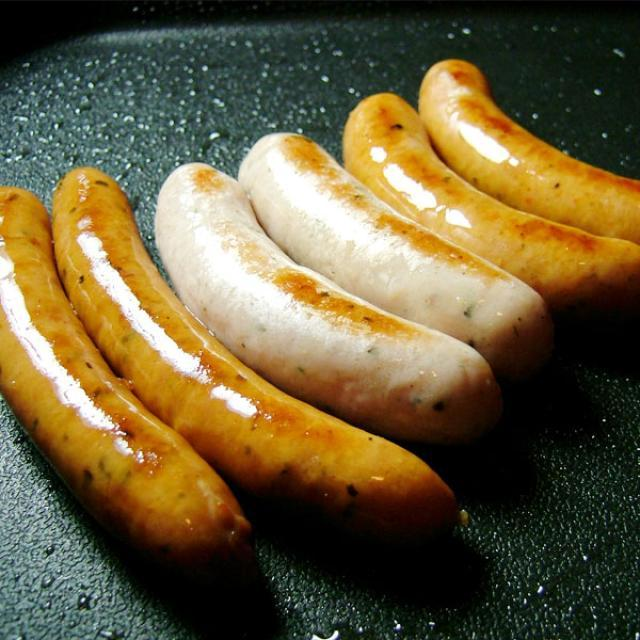Sausage: (0, 50, 640, 560)
